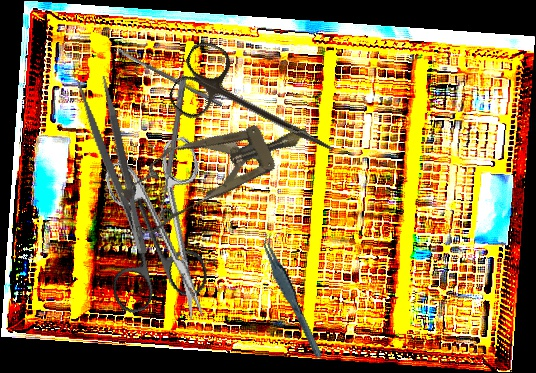Dressing Forceps: (76, 74, 152, 260)
Iris Scissors: (100, 134, 239, 333), (163, 36, 352, 181), (74, 132, 214, 317)
Speculum: (110, 96, 322, 243)
Surgical Spoon: (113, 45, 224, 108), (157, 74, 187, 221)
Tissue Forceps: (259, 228, 324, 364)
